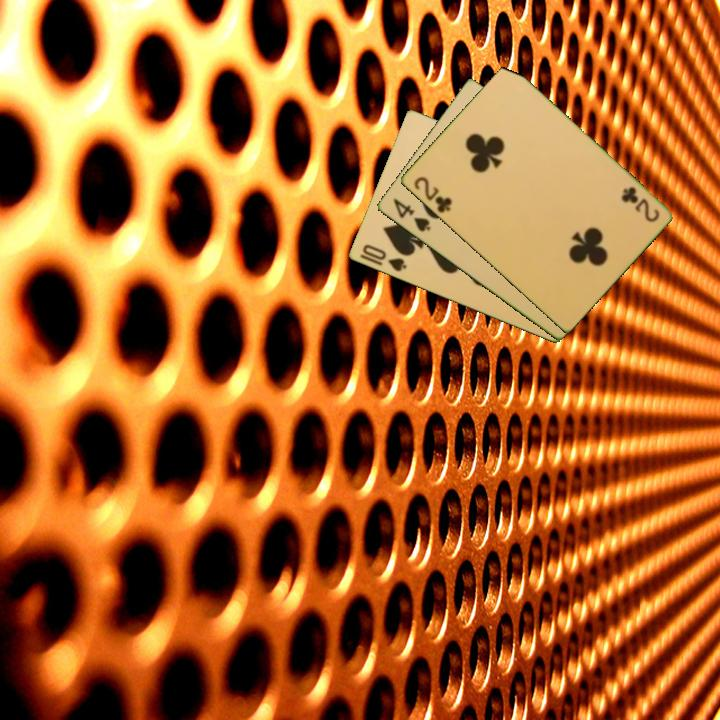10s: (359, 241, 409, 275)
2c: (410, 173, 455, 216), (618, 183, 662, 225)
4s: (389, 195, 433, 235)
